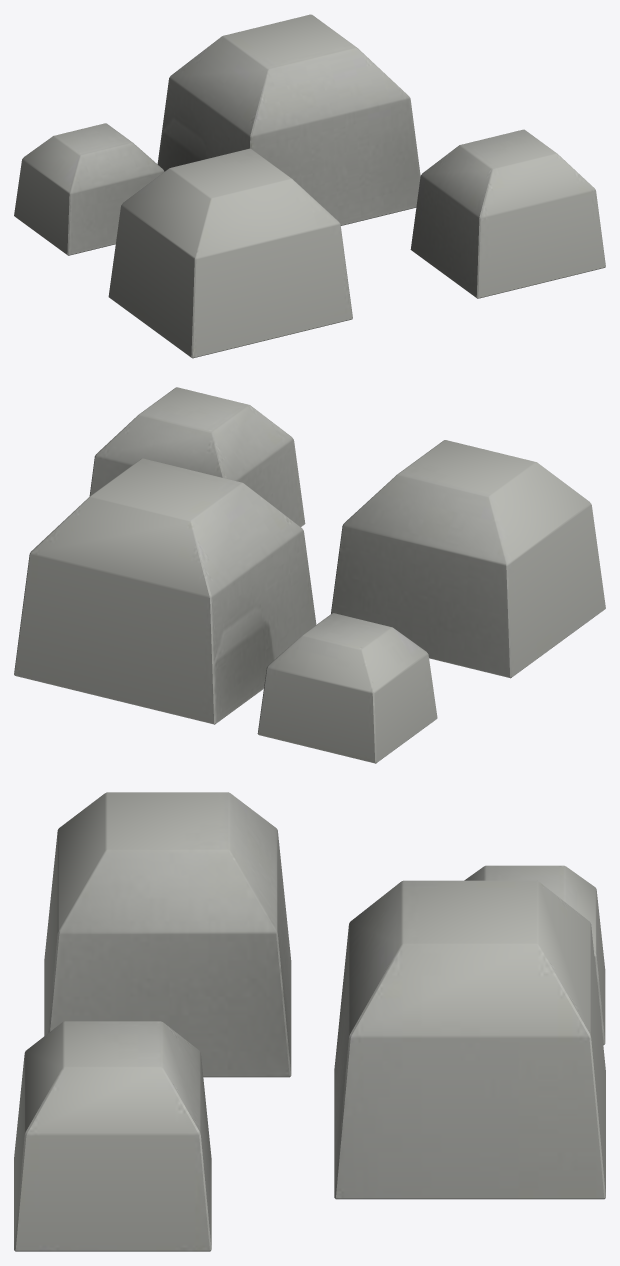
File: IT_stone_pile.glb
3 views of the same model, one above another, from view 1: azimuth 30°, elevation 25°; view 2: azimuth 150°, elevation 25°; view 3: azimuth 270°, elevation 25° (orthographic). The views are drawn at different scales.
Parts seen in each view (by area): view 1: IT_stone_pile; view 2: IT_stone_pile; view 3: IT_stone_pile.
Boxes of the visible parts, <box> form: IT_stone_pile: <box>14,14,605,358</box>; IT_stone_pile: <box>14,387,605,763</box>; IT_stone_pile: <box>14,792,605,1251</box>.
Bounding box in the file's own units: 0.4998 × 0.18 × 0.4308.
1 material, 1 textured.
